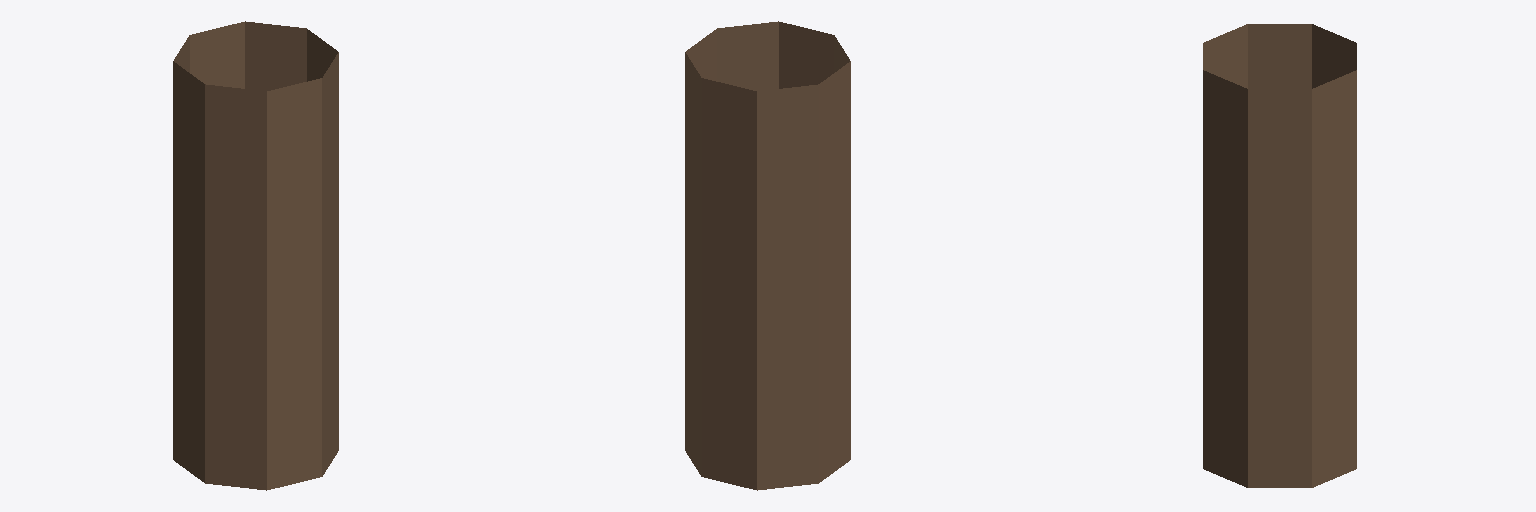
Rendered from Hilly_Prop_Bridge_Log_Post_Top.obj.
The picture shows the model from 3 angles: view 1: azimuth 30°, elevation 25°; view 2: azimuth 150°, elevation 25°; view 3: azimuth 270°, elevation 25°; orthographic projection.
Parts seen in each view (by area): view 1: object1; view 2: object1; view 3: object1.
Boxes of the visible parts, x1=… form: object1: x1=173, y1=21, x2=338, y2=490; object1: x1=685, y1=21, x2=850, y2=490; object1: x1=1203, y1=24, x2=1356, y2=487.
Bounding box in the file's own units: 0.2 × 0.5707 × 0.2.